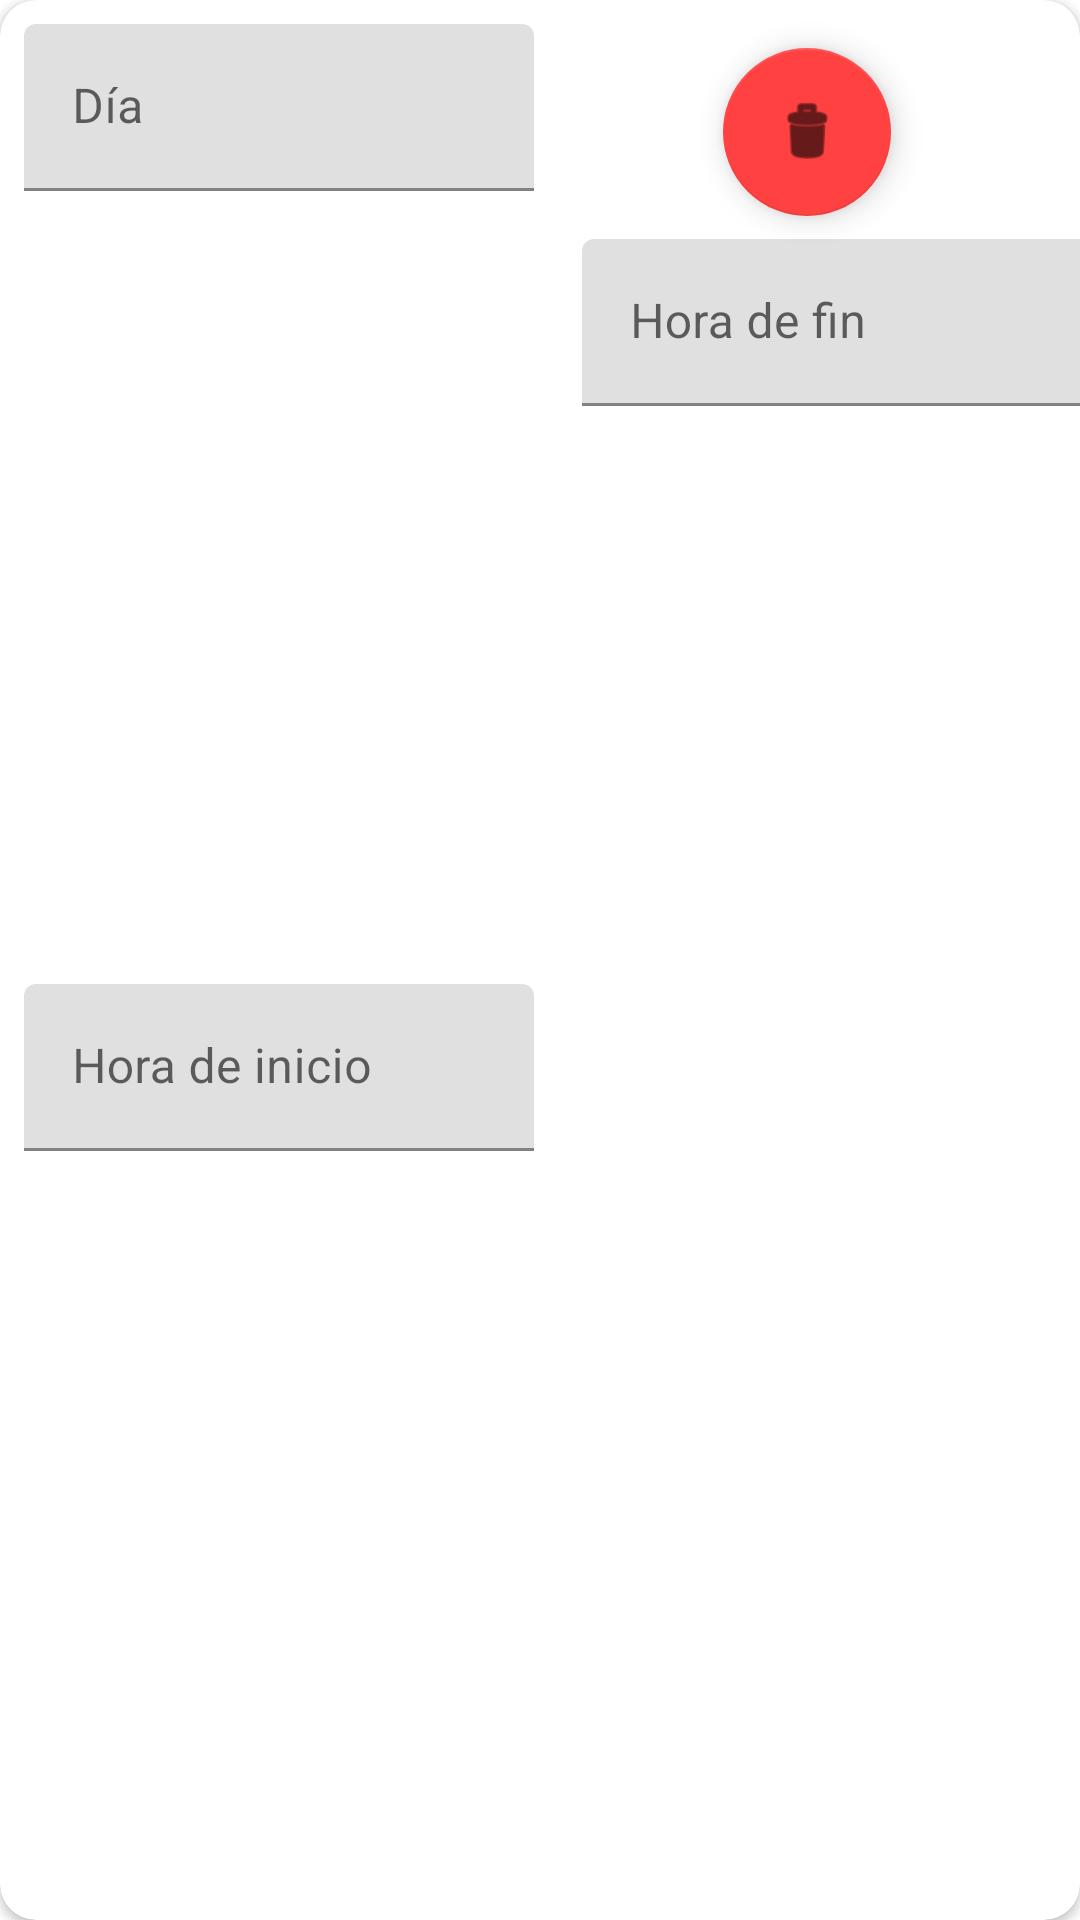

Icons on this 1080×1920 Android screen, each with the point to tap as (x=x, y=y):
delete: (x=807, y=132)
